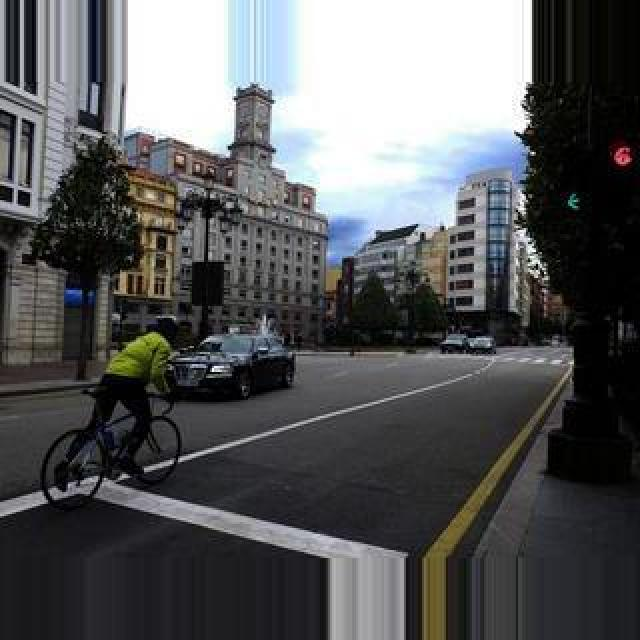Bus-Bike: (168, 332, 296, 400), (466, 334, 496, 354), (438, 336, 468, 354)
MC-Bike: (96, 318, 178, 478)
Person: (40, 386, 182, 510)
